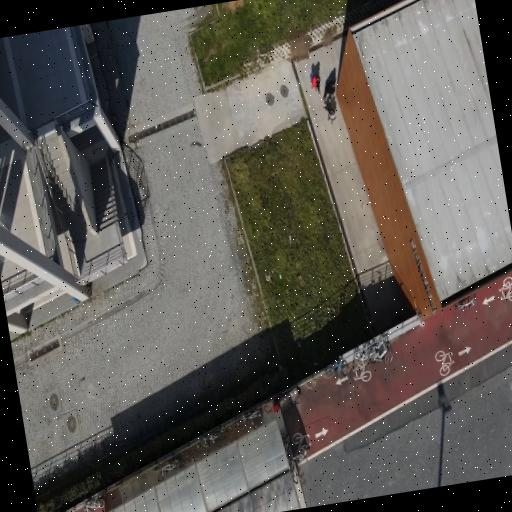person: (322, 74, 335, 103), (310, 72, 320, 94)
